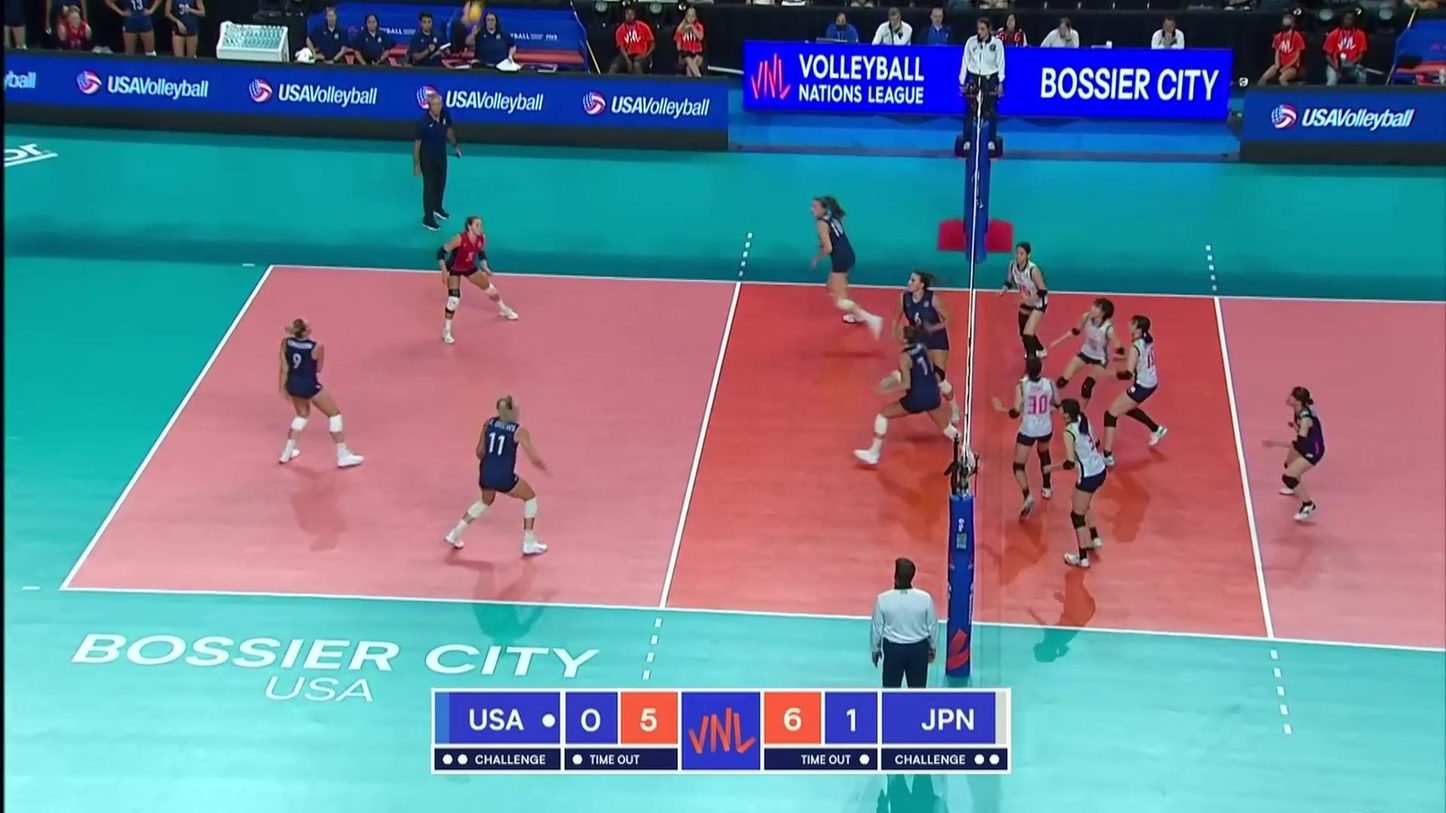player: (440, 398, 558, 557), (861, 319, 963, 468), (276, 318, 365, 468), (887, 267, 959, 421), (438, 214, 522, 343), (808, 194, 882, 340), (1099, 314, 1168, 467), (1052, 400, 1112, 571), (1049, 296, 1123, 425), (1003, 360, 1060, 520), (1265, 388, 1332, 520), (998, 238, 1050, 384)
refree: (869, 562, 939, 761), (955, 20, 1007, 150)
